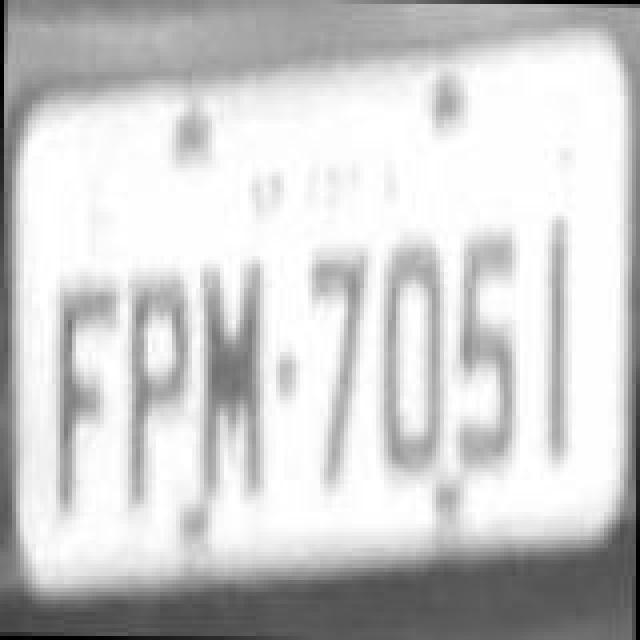1: (544, 208, 576, 464)
5: (452, 224, 524, 468)
7: (302, 244, 370, 492)
F: (50, 270, 122, 514)
M: (192, 258, 268, 506)
O: (376, 236, 448, 480)
P: (122, 270, 194, 518)
